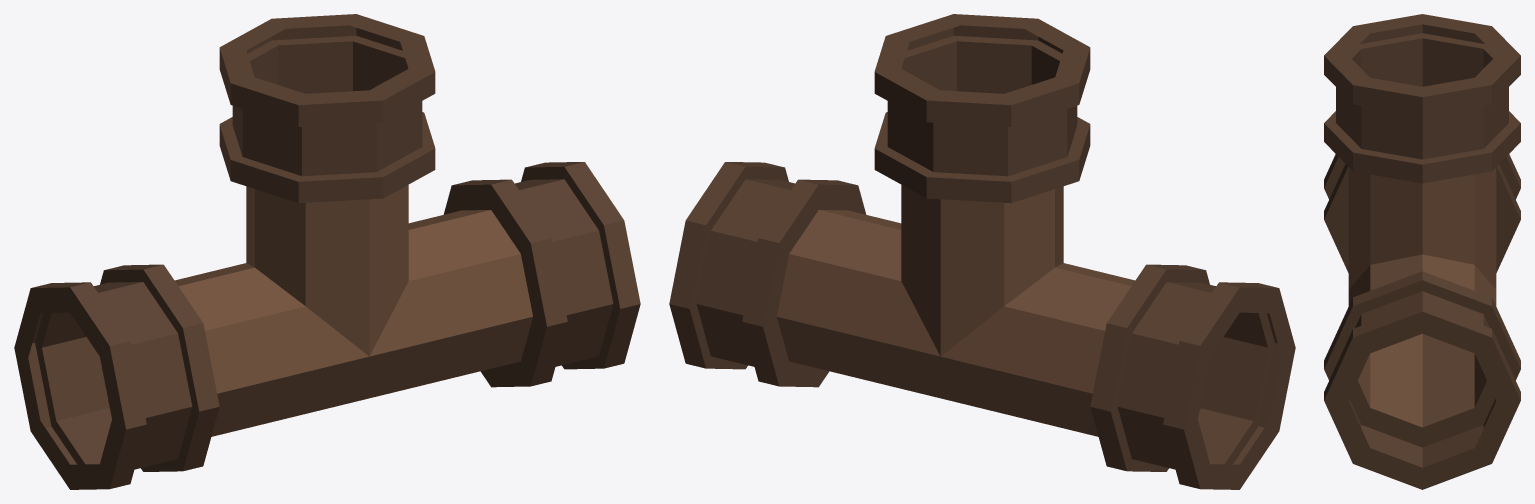
Rendered from SM_Prop_Pipe_Part_T_01.fbx.
The picture shows the model from 3 angles, left to right: view 1: azimuth 30°, elevation 25°; view 2: azimuth 150°, elevation 25°; view 3: azimuth 270°, elevation 25°; orthographic projection. The views are drawn at different scales.
Visible parts, largest first — view 1: SM_Prop_Pipe_Part_T_01; view 2: SM_Prop_Pipe_Part_T_01; view 3: SM_Prop_Pipe_Part_T_01.
Part boxes in pixels (x1=…): SM_Prop_Pipe_Part_T_01: x1=14, y1=14, x2=640, y2=489; SM_Prop_Pipe_Part_T_01: x1=669, y1=14, x2=1295, y2=489; SM_Prop_Pipe_Part_T_01: x1=1324, y1=14, x2=1520, y2=489.
Size of the model in its own units: 110 by 75.04 by 41.36.
